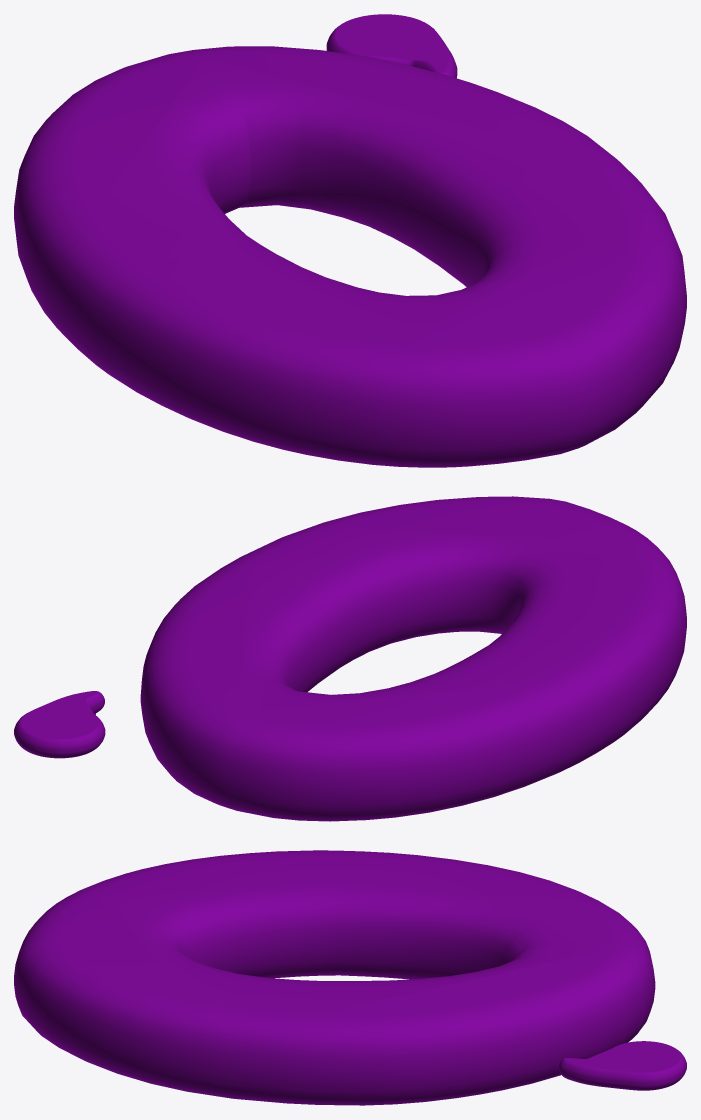
The model's file is o мяг.fbx.
The picture shows the model from 3 angles, top to bottom: view 1: azimuth 30°, elevation 25°; view 2: azimuth 150°, elevation 25°; view 3: azimuth 270°, elevation 25°; orthographic projection. The views are drawn at different scales.
Visible parts, largest first — view 1: Curve.027, Circle.001; view 2: Curve.027, Circle.001; view 3: Curve.027, Circle.001.
Part boxes in pixels (<box>): Curve.027: <box>14,46,686,467</box>; Circle.001: <box>326,14,457,78</box>; Curve.027: <box>140,496,686,821</box>; Circle.001: <box>14,691,105,758</box>; Curve.027: <box>14,850,655,1105</box>; Circle.001: <box>558,1041,686,1090</box>.
Bounding box in the file's own units: 256 × 49.54 × 357.
2 materials, 2 textured.
